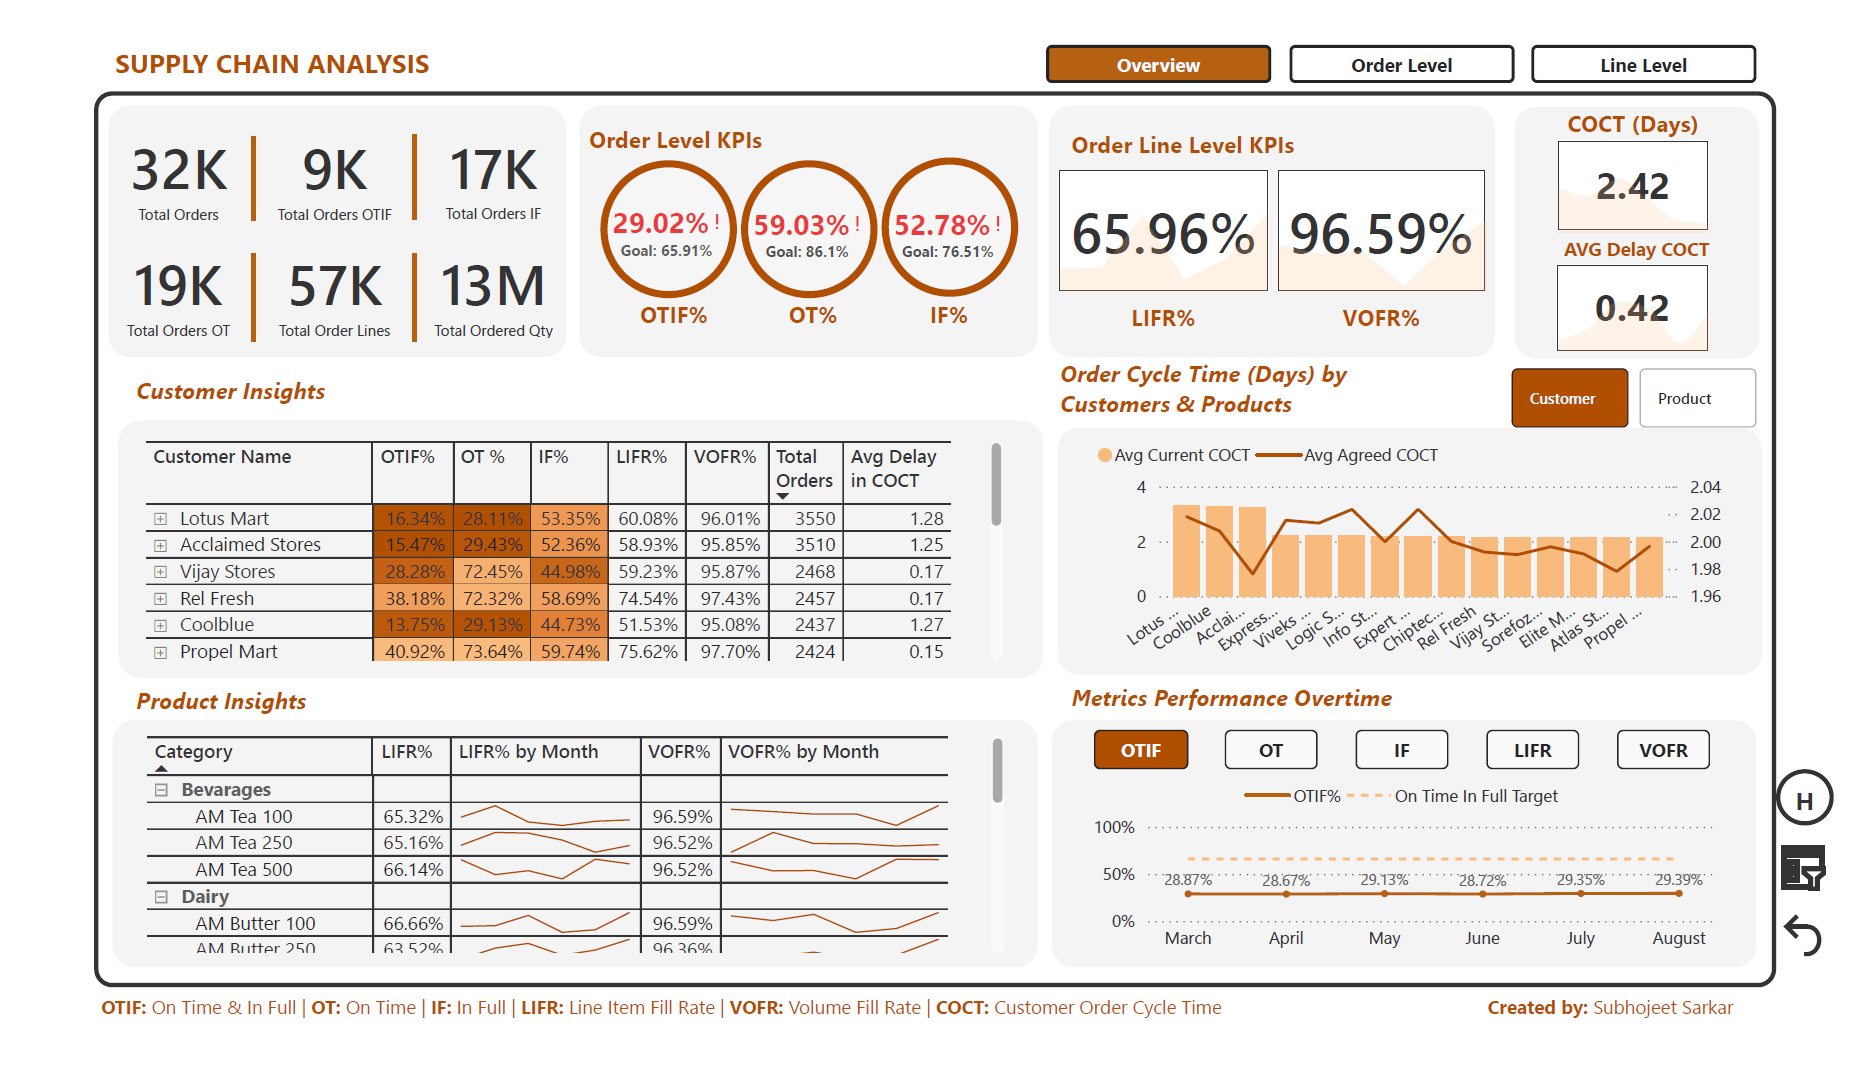

Layout of this report page (visuals, bound fields, positions):
{"tool":"powerbi","page":{"name":"Overview","canvas":[1280,720],"ordinal":2},"visuals":[{"type":"shape","box":[42.5,41.2,1196.2,636.2],"z":0},{"type":"lineChart","title":"OTIF Chart","fields":{"Y":["Measure Table.OTIF%","Measure Table.On Time In Full Target"],"Category":["dim_date.date.Variation.Date Hierarchy.Quarter","dim_date.date.Variation.Date Hierarchy.Month"]},"box":[747.5,522.5,455,138.8],"z":0,"group":"g1"},{"type":"shape","box":[723.5,487.5,501.2,176.2],"z":1000},{"type":"actionButton","title":"OTIF Button","box":[753.7,495.2,66.2,27.5],"z":1000,"group":"g1"},{"type":"shape","box":[727.5,280,501.2,176.2],"z":2000},{"type":"actionButton","title":"OT Button","box":[846.6,495.2,66.2,27.5],"z":2000,"group":"g1"},{"type":"shape","box":[56.2,487.5,657.5,176.2],"z":3000},{"type":"actionButton","title":"IF Button","box":[939.4,495.2,66.2,27.5],"z":3000,"group":"g1"},{"type":"actionButton","title":"LIFR Button","box":[1032.2,495.2,66.2,27.5],"z":4000,"group":"g1"},{"type":"shape","box":[60,275,657.5,182.5],"z":5000},{"type":"actionButton","title":"VOFR Button","box":[1125,495.2,66.2,27.5],"z":5000,"group":"g1"},{"type":"shape","box":[1053.4,52.4,173.8,178.8],"z":6000},{"type":"shape","box":[722.3,51.3,316.2,178.8],"z":7000},{"type":"shape","box":[387.5,51.2,326.2,178.8],"z":8000},{"type":"shape","box":[52.7,51.3,326.2,178.8],"z":9000},{"type":"card","fields":{"Values":["Measure Table.Total Orders"]},"box":[52.4,62.6,101.2,77.5],"z":10000},{"type":"card","fields":{"Values":["Measure Table.Total IF Orders"]},"box":[274.9,61.3,103.8,80],"z":11000},{"type":"card","fields":{"Values":["Measure Table.Total OTIF Orders"]},"box":[159.3,63.8,110,75],"z":12000},{"type":"card","fields":{"Values":["Measure Table.Total OT Orders"]},"box":[52.4,146.9,101.2,73.8],"z":13000},{"type":"card","fields":{"Values":["Measure Table.Total Order Lines"]},"box":[159.3,145.1,110,77.5],"z":14000},{"type":"card","fields":{"Values":["Measure Table.Total Ordered Quantity"]},"box":[274.9,146.9,103.8,73.8],"z":15000},{"type":"kpi","fields":{"TrendLine":["fact_order_lines.agreed_delivery_date"],"Indicator":["Measure Table.OTIF%"],"Goal":["Measure Table.On Time In Full Target"]},"box":[402.5,108.3,97.5,63.8],"z":16000},{"type":"kpi","fields":{"TrendLine":["fact_order_lines.agreed_delivery_date"],"Indicator":["Measure Table.OT%"],"Goal":["Measure Table.On Time Target"]},"box":[502.8,109,97,63],"z":17000},{"type":"kpi","fields":{"TrendLine":["fact_order_lines.agreed_delivery_date"],"Indicator":["Measure Table.IF%"],"Goal":["Measure Table.In Full Target"]},"box":[602.5,109,97,63],"z":18000},{"type":"card","fields":{"Values":["Measure Table.Customer Order Cycle Time"]},"box":[1083.7,76,107.5,63.8],"z":19000},{"type":"card","fields":{"Values":["Measure Table.Average Delay COCT"]},"box":[1083.4,163.9,107.5,62.5],"z":20000},{"type":"areaChart","fields":{"Category":["dim_date.date.Variation.Date Hierarchy.Month"],"Y":["Measure Table.Customer Order Cycle Time"]},"box":[1071.2,83.5,133.8,62.5],"z":21000},{"type":"card","fields":{"Values":["Measure Table.LIFR%"]},"box":[729.1,97.2,148.8,86.2],"z":22000},{"type":"areaChart","fields":{"Y":["Measure Table.LIFR%"],"Category":["dim_date.date.Variation.Date Hierarchy.Month"]},"box":[713.1,107.2,181.2,81.2],"z":23000},{"type":"card","fields":{"Values":["Measure Table.VOFR%"]},"box":[884.7,97.2,147.5,86.2],"z":24000},{"type":"pivotTable","fields":{"Rows":["dim_customers.customer_name","dim_customers.customer_id"],"Values":["Measure Table.OTIF%","Measure Table.OT %","Measure Table.IF%","Measure Table.LIFR%","Measure Table.VOFR%","Measure Table.Total Orders","Measure Table.Average Delay COCT"]},"box":[75,285,618.8,166.2],"z":25000},{"type":"pivotTable","fields":{"Rows":["dim_products.category","dim_products.product_name"],"Values":["Measure Table.LIFR%","SparklineData(Measure Table.LIFR%_[dim_date.date.Variation.Date Hierarchy.Month])","Measure Table.VOFR%","SparklineData(Measure Table.VOFR%_[dim_date.date.Variation.Date Hierarchy.Month])"]},"box":[76.2,494.7,618.8,163.8],"z":26000},{"type":"lineClusteredColumnComboChart","fields":{"Category":["dim_customers.customer_name"],"Y":["Measure Table.Avg Current COCT"],"Y2":["Measure Table.Avg Agreed COCT"]},"box":[751.2,280.2,455,172.5],"z":27000},{"type":"advancedSlicerVisual","fields":{"Values":["COCT Dimension Parameter.COCT Dimension Parameter"]},"box":[1046.2,232.5,185,52.5],"z":28000},{"type":"shape","box":[402.5,89.6,97.5,98.8],"z":29000},{"type":"shape","box":[502.5,89.6,97.5,98.8],"z":30000},{"type":"shape","box":[602.5,88.4,97.5,98.8],"z":31000},{"type":"areaChart","fields":{"Category":["dim_date.date.Variation.Date Hierarchy.Month"],"Y":["Measure Table.VOFR%"]},"box":[868.8,107.2,181.2,81.2],"z":32000},{"type":"areaChart","fields":{"Category":["dim_date.date.Variation.Date Hierarchy.Month"],"Y":["Measure Table.Average Delay COCT"]},"box":[1070.9,168.9,133.8,62.5],"z":33000},{"type":"shape","box":[134.4,72.6,43.8,60],"z":34000},{"type":"shape","box":[134.4,156.3,43.8,62.5],"z":35000},{"type":"shape","box":[248.9,72.5,43.8,60],"z":36000},{"type":"shape","box":[248.9,156.2,43.8,62.5],"z":37000},{"type":"textbox","box":[42.5,677.5,826.2,33.8],"z":38000},{"type":"textbox","box":[1028.8,677.5,210,31.2],"z":39000},{"type":"textbox","box":[390,58.8,161.2,32.5],"z":40000},{"type":"textbox","box":[426.2,183.8,58.8,38.8],"z":41000},{"type":"textbox","box":[527.5,183.8,53.8,31.2],"z":42000},{"type":"textbox","box":[623.8,183.8,53.8,32.5],"z":43000},{"type":"textbox","box":[732.5,62.5,300,41.2],"z":44000},{"type":"textbox","box":[773.8,186.2,58.8,32.5],"z":45000},{"type":"textbox","box":[918.8,186.2,78.8,32.5],"z":46000},{"type":"textbox","box":[1073.8,47.5,127.5,31.2],"z":47000},{"type":"textbox","box":[1051.2,138.8,177.5,27.5],"z":48000},{"type":"textbox","box":[67.5,457.5,148.8,41.2],"z":49000},{"type":"textbox","box":[67.5,237.5,171.2,37.5],"z":50000},{"type":"textbox","box":[725,226.2,413.8,55],"z":51000},{"type":"textbox","box":[732.5,456.2,278.8,32.5],"z":52000},{"type":"actionButton","box":[720,7.5,160,27.5],"z":53000},{"type":"actionButton","box":[892.5,7.5,160,27.5],"z":54000},{"type":"actionButton","box":[1065,7.5,160,27.5],"z":55000},{"type":"actionButton","box":[1237.5,621.2,42.5,40],"z":56000},{"type":"actionButton","box":[1237.5,572.5,42.5,40],"z":57000},{"type":"actionButton","box":[1238.8,522.5,41.2,40],"z":58000},{"type":"group","id":"g1","title":"OTIF","box":[747.5,495.2,455,166],"z":59000},{"type":"textbox","box":[52.5,2.5,300,37.5],"z":64000}]}

Visuals, with their boxes in screenshot pixels (x1, y1, x2, y2), scaled from the page's 1280x720 canvas onto the 1867x1080 screenshot:
shape: l=62, t=62, r=1807, b=1016
"OTIF Chart" lineChart: l=1090, t=784, r=1754, b=992
shape: l=1055, t=731, r=1786, b=996
"OTIF Button" actionButton: l=1099, t=743, r=1196, b=784
shape: l=1061, t=420, r=1792, b=684
"OT Button" actionButton: l=1235, t=743, r=1331, b=784
shape: l=82, t=731, r=1041, b=996
"IF Button" actionButton: l=1370, t=743, r=1467, b=784
"LIFR Button" actionButton: l=1506, t=743, r=1602, b=784
shape: l=88, t=412, r=1047, b=686
"VOFR Button" actionButton: l=1641, t=743, r=1737, b=784
shape: l=1536, t=79, r=1790, b=347
shape: l=1054, t=77, r=1515, b=345
shape: l=565, t=77, r=1041, b=345
shape: l=77, t=77, r=553, b=345
card - Measure Table.Total Orders: l=76, t=94, r=224, b=210
card - Measure Table.Total IF Orders: l=401, t=92, r=552, b=212
card - Measure Table.Total OTIF Orders: l=232, t=96, r=393, b=208
card - Measure Table.Total OT Orders: l=76, t=220, r=224, b=331
card - Measure Table.Total Order Lines: l=232, t=218, r=393, b=334
card - Measure Table.Total Ordered Quantity: l=401, t=220, r=552, b=331
kpi - fact_order_lines.agreed_delivery_date x Measure Table.OTIF%: l=587, t=162, r=729, b=258
kpi - fact_order_lines.agreed_delivery_date x Measure Table.OT%: l=733, t=164, r=875, b=258
kpi - fact_order_lines.agreed_delivery_date x Measure Table.IF%: l=879, t=164, r=1020, b=258
card - Measure Table.Customer Order Cycle Time: l=1581, t=114, r=1737, b=210
card - Measure Table.Average Delay COCT: l=1580, t=246, r=1737, b=340
areaChart - dim_date.date.Variation.Date Hierarchy.Month x Measure Table.Customer Order Cycle Time: l=1562, t=125, r=1758, b=219
card - Measure Table.LIFR%: l=1063, t=146, r=1280, b=275
areaChart - Measure Table.LIFR% x dim_date.date.Variation.Date Hierarchy.Month: l=1040, t=161, r=1304, b=283
card - Measure Table.VOFR%: l=1290, t=146, r=1506, b=275
pivotTable - dim_customers.customer_name x dim_customers.customer_id: l=109, t=428, r=1012, b=677
pivotTable - dim_products.category x dim_products.product_name: l=111, t=742, r=1014, b=988
lineClusteredColumnComboChart - dim_customers.customer_name x Measure Table.Avg Current COCT: l=1096, t=420, r=1759, b=679
advancedSlicerVisual - COCT Dimension Parameter.COCT Dimension Parameter: l=1526, t=349, r=1796, b=428
shape: l=587, t=134, r=729, b=283
shape: l=733, t=134, r=875, b=283
shape: l=879, t=133, r=1021, b=281
areaChart - dim_date.date.Variation.Date Hierarchy.Month x Measure Table.VOFR%: l=1267, t=161, r=1532, b=283
areaChart - dim_date.date.Variation.Date Hierarchy.Month x Measure Table.Average Delay COCT: l=1562, t=253, r=1757, b=347
shape: l=196, t=109, r=260, b=199
shape: l=196, t=234, r=260, b=328
shape: l=363, t=109, r=427, b=199
shape: l=363, t=234, r=427, b=328
textbox: l=62, t=1016, r=1267, b=1067
textbox: l=1501, t=1016, r=1807, b=1063
textbox: l=569, t=88, r=804, b=137
textbox: l=622, t=276, r=707, b=334
textbox: l=769, t=276, r=848, b=322
textbox: l=910, t=276, r=988, b=324
textbox: l=1068, t=94, r=1506, b=156
textbox: l=1129, t=279, r=1214, b=328
textbox: l=1340, t=279, r=1455, b=328
textbox: l=1566, t=71, r=1752, b=118
textbox: l=1533, t=208, r=1792, b=249
textbox: l=98, t=686, r=315, b=748
textbox: l=98, t=356, r=348, b=412
textbox: l=1057, t=339, r=1661, b=422
textbox: l=1068, t=684, r=1475, b=733
actionButton: l=1050, t=11, r=1284, b=52
actionButton: l=1302, t=11, r=1535, b=52
actionButton: l=1553, t=11, r=1787, b=52
actionButton: l=1805, t=932, r=1866, b=992
actionButton: l=1805, t=859, r=1866, b=919
actionButton: l=1807, t=784, r=1866, b=844
"OTIF" group: l=1090, t=743, r=1754, b=992
textbox: l=77, t=4, r=514, b=60
